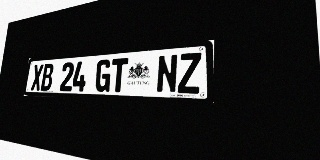2: (60, 62, 75, 91)
4: (72, 61, 88, 92)
B: (40, 63, 54, 91)
G: (94, 59, 112, 92)
N: (156, 54, 178, 93)
T: (110, 58, 128, 92)
X: (31, 64, 44, 91)
Z: (178, 52, 201, 94)
